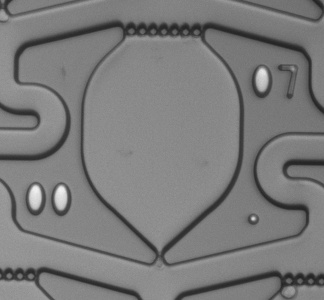AptNum: (246, 59, 306, 107)
Marker: (243, 210, 265, 231)
StNum: (17, 175, 81, 226)
Trap: (136, 255, 187, 300)
